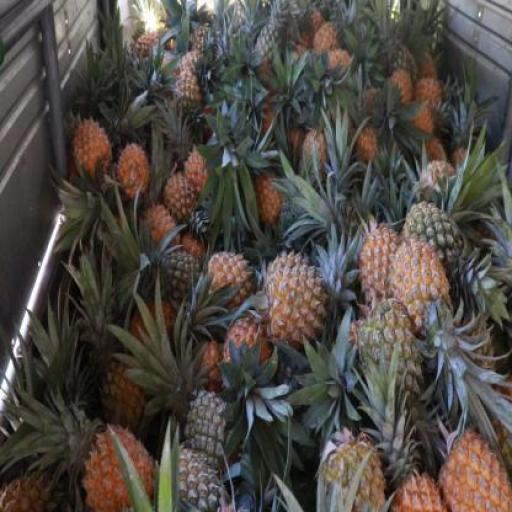------------------------------: (359, 305, 426, 406), (404, 201, 468, 299), (105, 358, 156, 433), (170, 69, 202, 127)
Pineapple - v8 v1: (83, 424, 159, 511), (390, 245, 453, 347), (261, 252, 324, 346), (436, 430, 510, 510), (360, 229, 409, 317), (222, 320, 270, 399), (206, 248, 249, 305), (73, 115, 113, 175), (162, 171, 200, 218), (118, 142, 147, 200)
